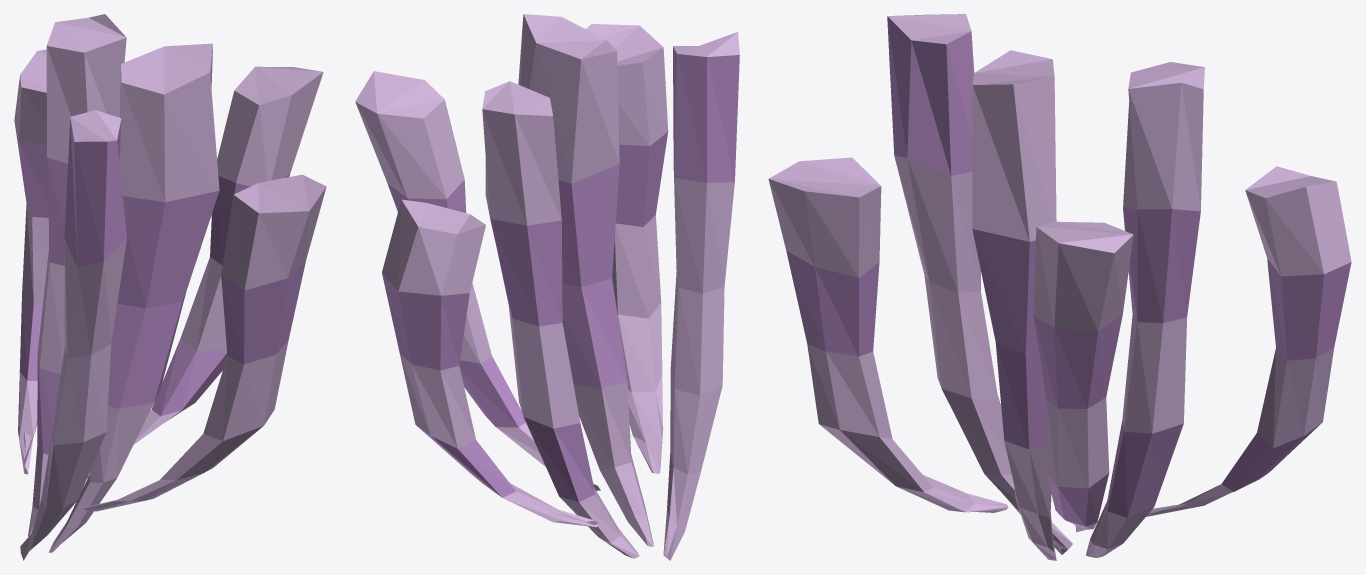
Rendered from more_prsty.glb.
3 views of the same model, side by side, from view 1: azimuth 30°, elevation 25°; view 2: azimuth 150°, elevation 25°; view 3: azimuth 270°, elevation 25° (orthographic). The views are drawn at different scales.
Visible parts, largest first — view 1: more_prsty; view 2: more_prsty; view 3: more_prsty.
Part boxes in pixels (x1,y1,x2,y2): more_prsty: (14, 14, 326, 560); more_prsty: (355, 14, 739, 560); more_prsty: (768, 14, 1351, 560).
Bounding box in the file's own units: 0.6989 × 1.06 × 0.991.
Materials: 1 (1 with a texture image).
